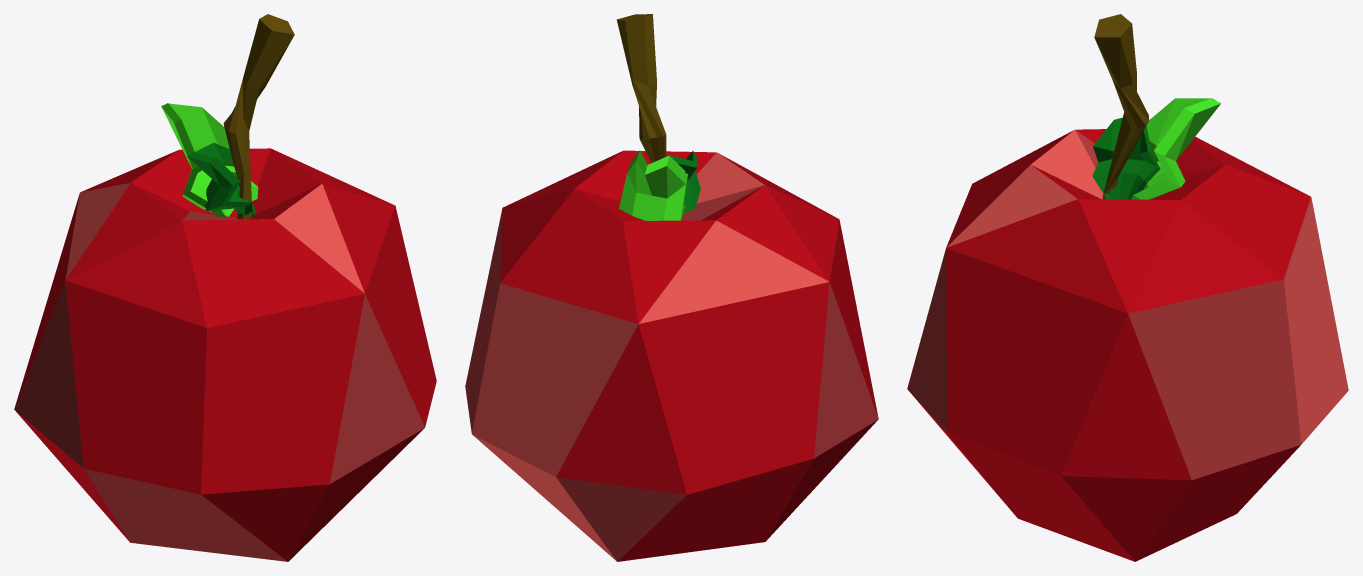
Rendered from lowpoly_apple.fbx.
3 renders of one model, left to right at view 1: azimuth 30°, elevation 25°; view 2: azimuth 150°, elevation 25°; view 3: azimuth 270°, elevation 25°, orthographic. The views are drawn at different scales.
Visible parts, largest first — view 1: Sphere, Cylinder, Cube.001, Cube; view 2: Sphere, Cylinder, Cube.001, Cube; view 3: Sphere, Cylinder, Cube.001, Cube.
Boxes of the visible parts, left/top/right/bottom form: Sphere: left=14, top=148, right=436, bottom=561; Cylinder: left=223, top=14, right=294, bottom=219; Cube.001: left=161, top=103, right=258, bottom=217; Cube: left=187, top=142, right=256, bottom=216; Sphere: left=465, top=150, right=878, bottom=561; Cylinder: left=616, top=14, right=666, bottom=162; Cube.001: left=619, top=150, right=687, bottom=220; Cube: left=666, top=151, right=700, bottom=211; Sphere: left=907, top=129, right=1348, bottom=561; Cylinder: left=1094, top=14, right=1149, bottom=199; Cube.001: left=1131, top=98, right=1220, bottom=199; Cube: left=1092, top=117, right=1160, bottom=199.
Size of the model in its own units: 190 by 264 by 199.
